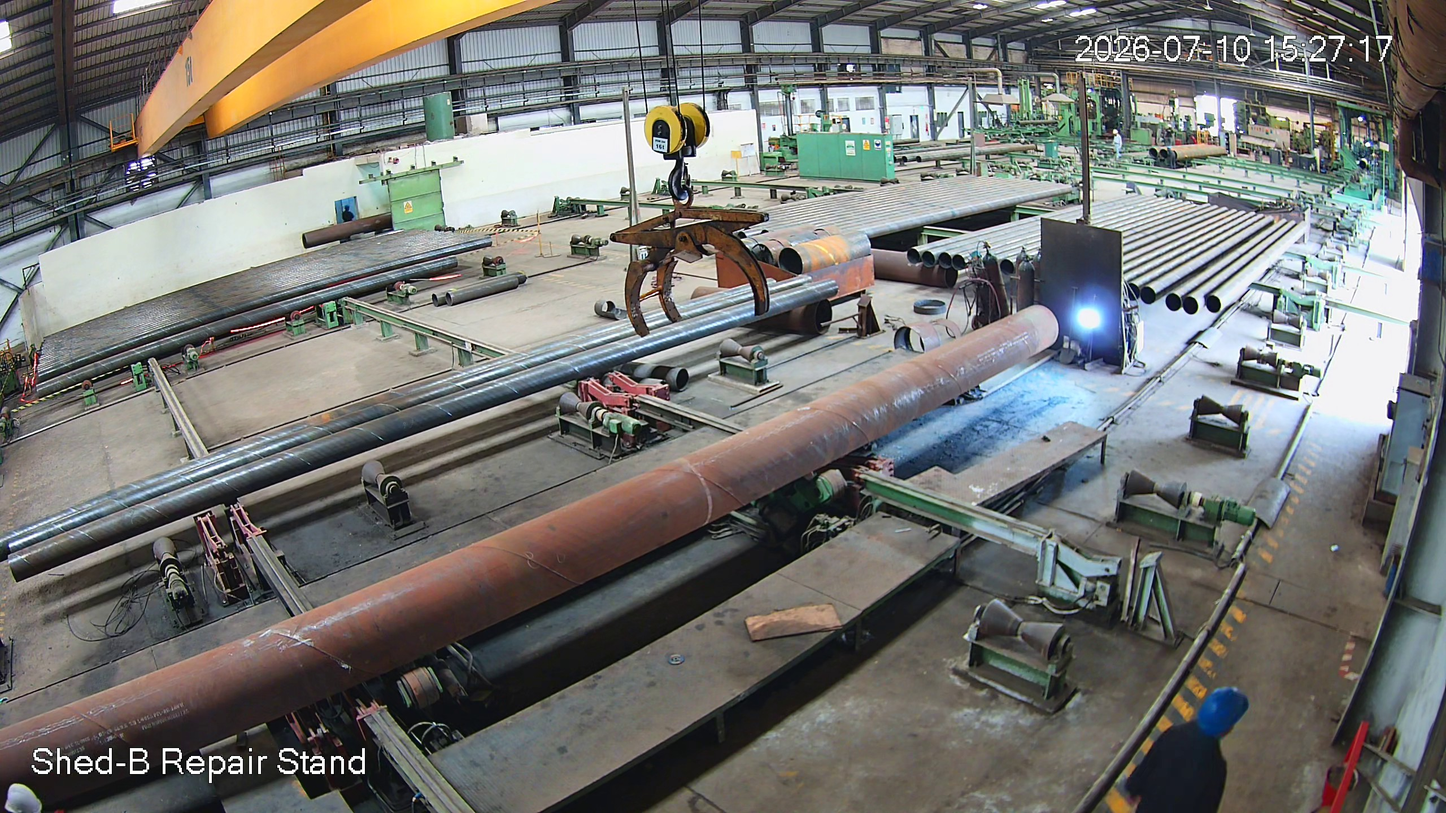Helmet: (1187, 672, 1263, 763)
Person: (1110, 694, 1275, 813)
